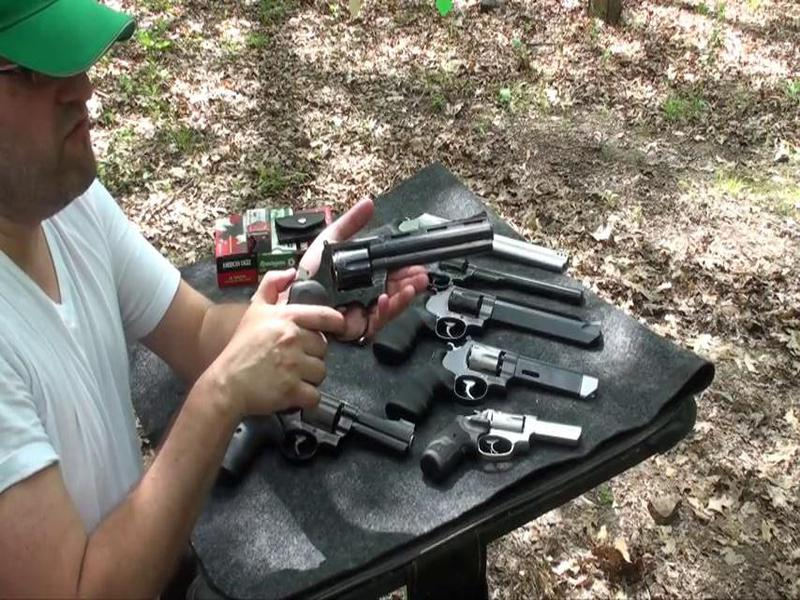Revolver: (258, 194, 495, 365)
